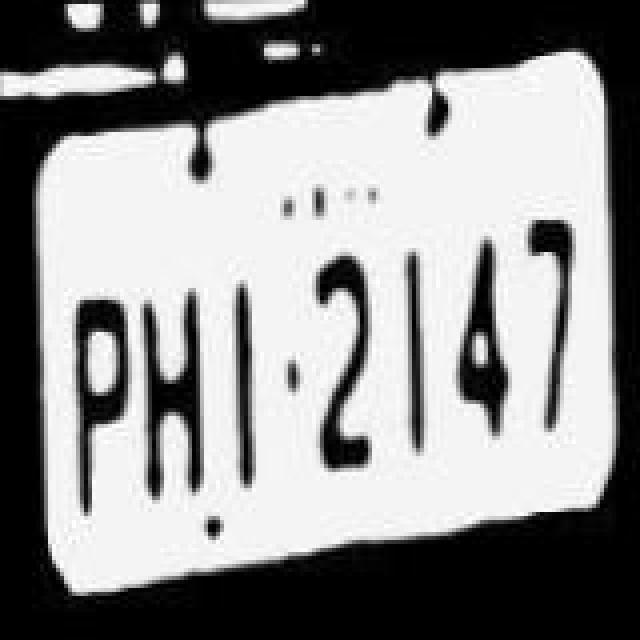1: (386, 214, 434, 466), (210, 266, 262, 494)
2: (294, 234, 382, 490)
4: (448, 216, 516, 464)
7: (520, 196, 596, 444)
H: (134, 272, 210, 500)
P: (54, 274, 130, 518)
